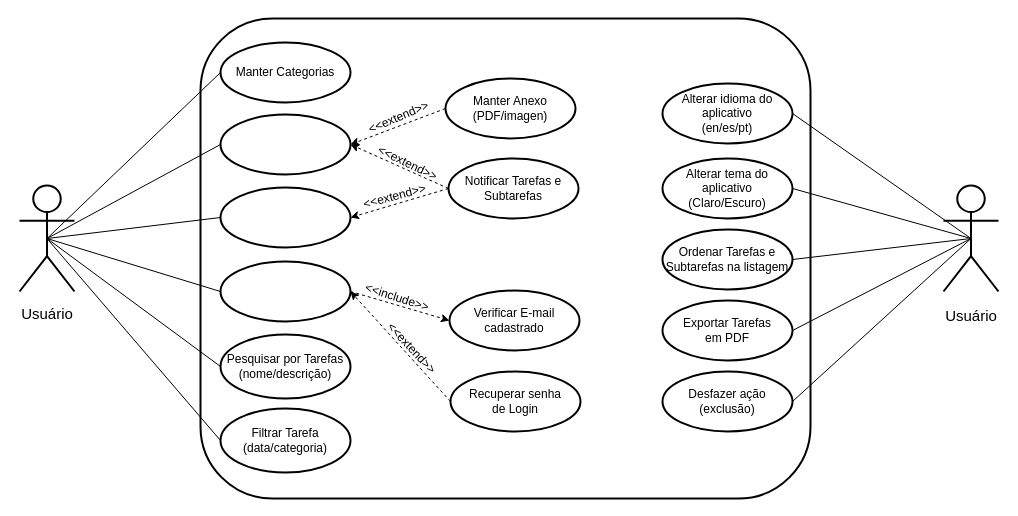
Some shapes in this 1018 by 516 pixel diagram are drawn without their labels. The centre of each missing label's shape, as x and y in pixels:
"Manter Subtarefas" belongs at point (285, 217).
"Manter Tarefas" belongs at point (285, 144).
"Manter Usuário" belongs at point (285, 291).
